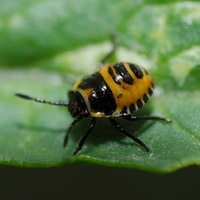insect: (15, 62, 171, 154)
